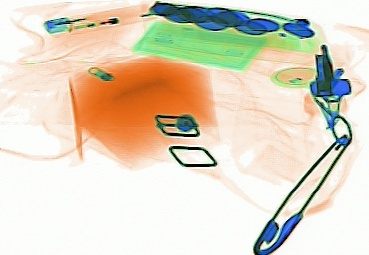lighter: (42, 2, 156, 36)
